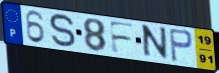6: (24, 9, 47, 45)
8: (82, 17, 109, 53)
F: (107, 19, 136, 55)
N: (142, 24, 170, 62)
P: (168, 27, 195, 64)
S: (48, 13, 78, 49)
